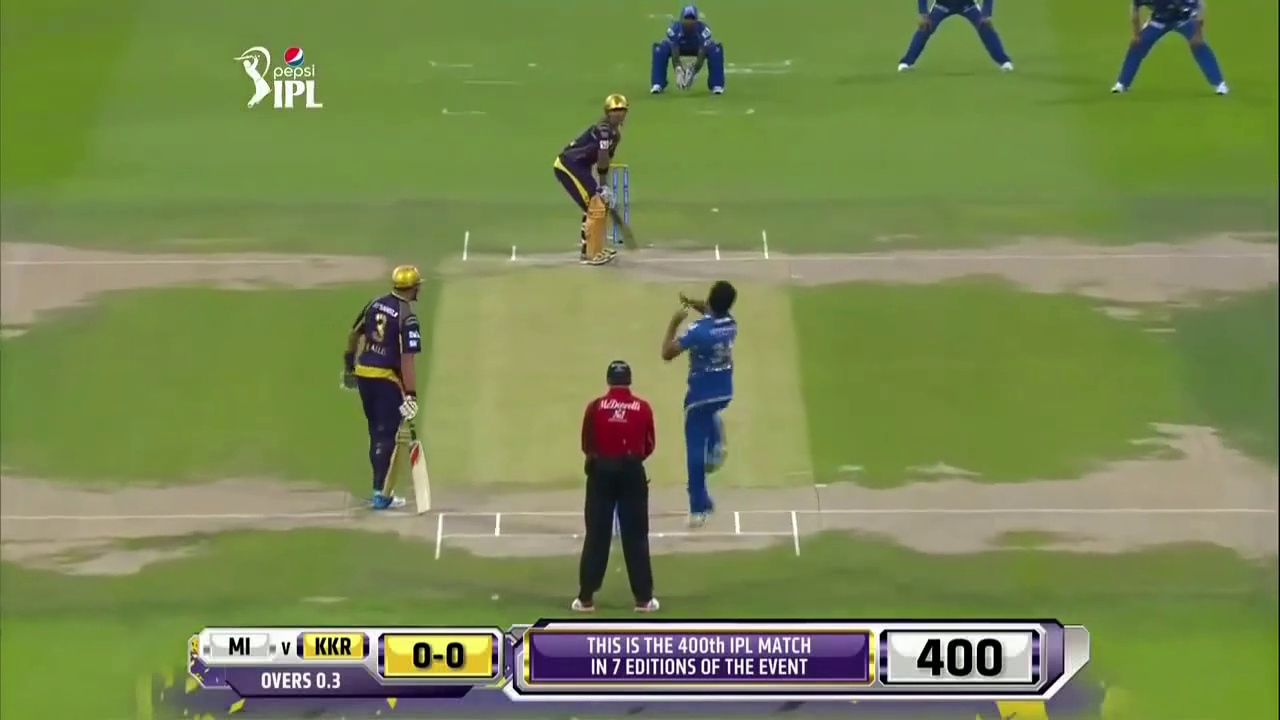bat: (407, 423, 434, 515)
